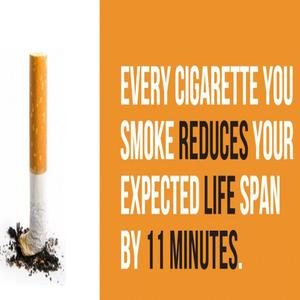cigarette: (21, 51, 50, 264)
